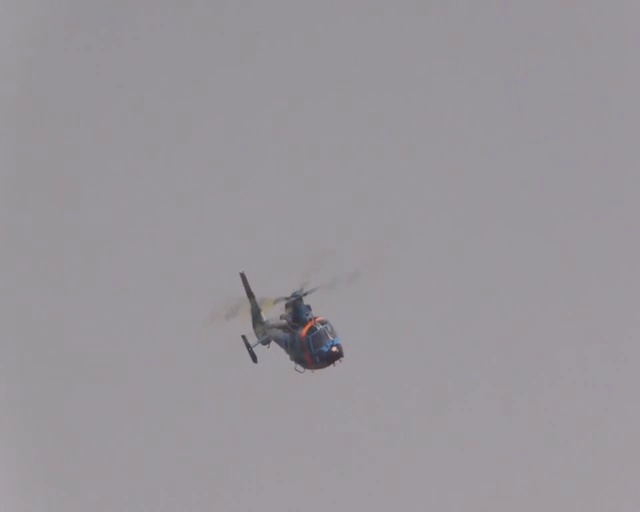HELICOPTER: (217, 268, 345, 373)
